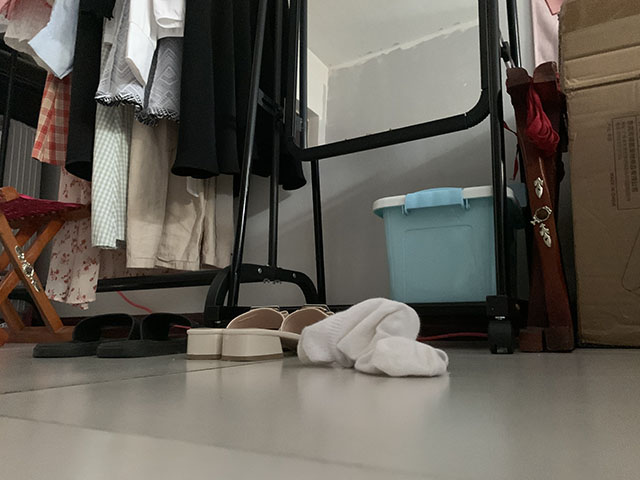slippers: (185, 303, 336, 363), (29, 312, 197, 360)
socks: (295, 296, 450, 378)
stool: (503, 61, 577, 354), (1, 185, 91, 347)
